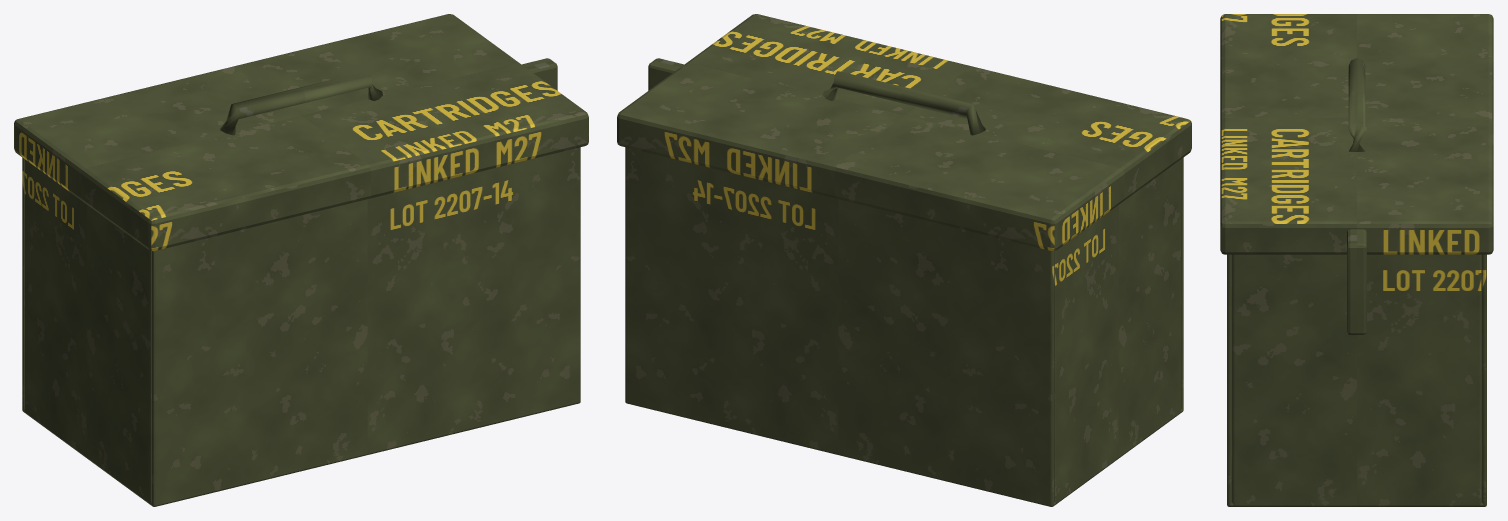
The model's file is lootbox_ammocan.glb.
The picture shows the model from 3 angles, left to right: view 1: azimuth 30°, elevation 25°; view 2: azimuth 150°, elevation 25°; view 3: azimuth 270°, elevation 25°; orthographic projection.
Visible parts, largest first — view 1: can_back, lid, can_left, handle, can_floor, can_front, latch; view 2: can_front, lid, can_left, handle, can_floor, can_back, latch; view 3: lid, can_right, latch, handle, can_back, can_front, can_floor.
Boxes of the visible parts, bbox=[...] form: can_back: bbox=[151, 147, 580, 506]; lid: bbox=[14, 14, 588, 251]; can_left: bbox=[24, 159, 151, 502]; handle: bbox=[220, 71, 382, 135]; can_floor: bbox=[22, 401, 580, 506]; can_front: bbox=[22, 157, 24, 409]; latch: bbox=[522, 58, 557, 90]; can_front: bbox=[625, 147, 1054, 505]; lid: bbox=[617, 14, 1191, 251]; can_left: bbox=[1054, 159, 1181, 504]; handle: bbox=[823, 71, 985, 135]; can_floor: bbox=[625, 401, 1183, 506]; can_back: bbox=[1181, 157, 1183, 410]; latch: bbox=[648, 58, 683, 90]; lid: bbox=[1220, 14, 1493, 254]; can_right: bbox=[1232, 254, 1481, 506]; latch: bbox=[1347, 229, 1366, 334]; handle: bbox=[1348, 58, 1365, 151]; can_back: bbox=[1227, 254, 1231, 506]; can_front: bbox=[1482, 254, 1486, 506]; can_floor: bbox=[1227, 503, 1486, 506].
Bounding box in the file's own units: 0.32 × 0.207 × 0.163.
2 materials, 2 textured.
